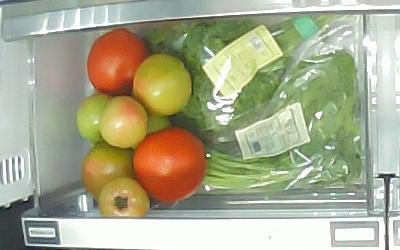tomato: (133, 128, 207, 203), (87, 29, 152, 96), (134, 54, 192, 115), (82, 143, 135, 200), (101, 96, 149, 148), (99, 177, 150, 217), (77, 94, 112, 141)
